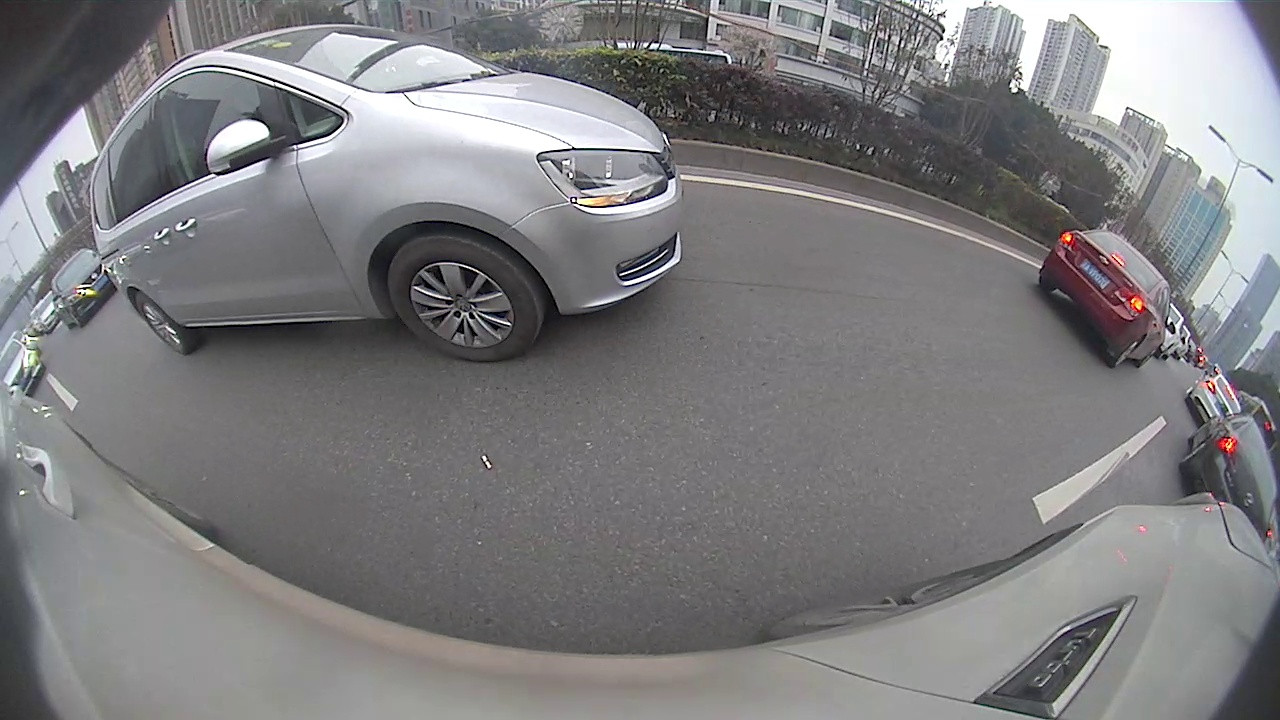car: (88, 22, 687, 362), (1037, 228, 1178, 369), (1178, 402, 1277, 546), (48, 246, 116, 329), (1184, 366, 1242, 424), (1, 333, 47, 398)
front: (392, 238, 539, 357)
rear: (135, 290, 191, 356), (1111, 338, 1143, 368)
